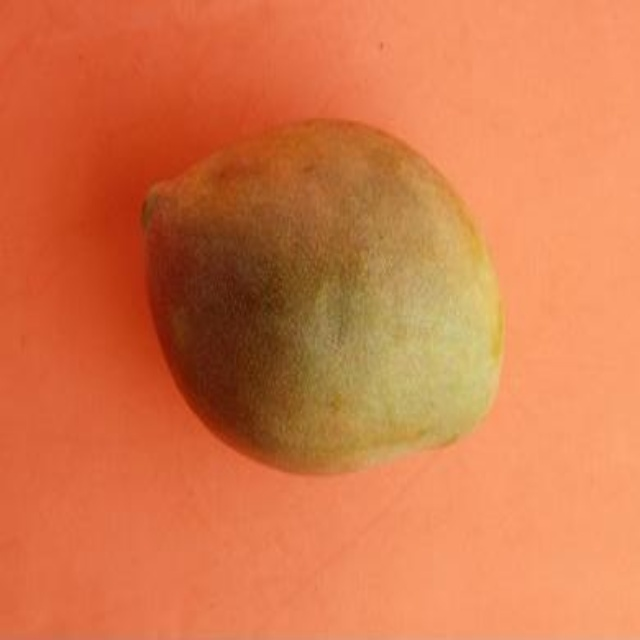mango: (132, 118, 503, 470)
